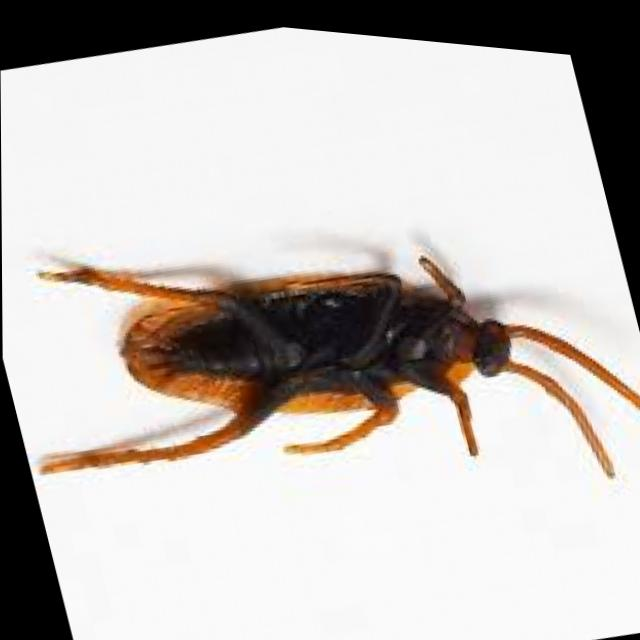Cockroach: (0, 69, 640, 619)
